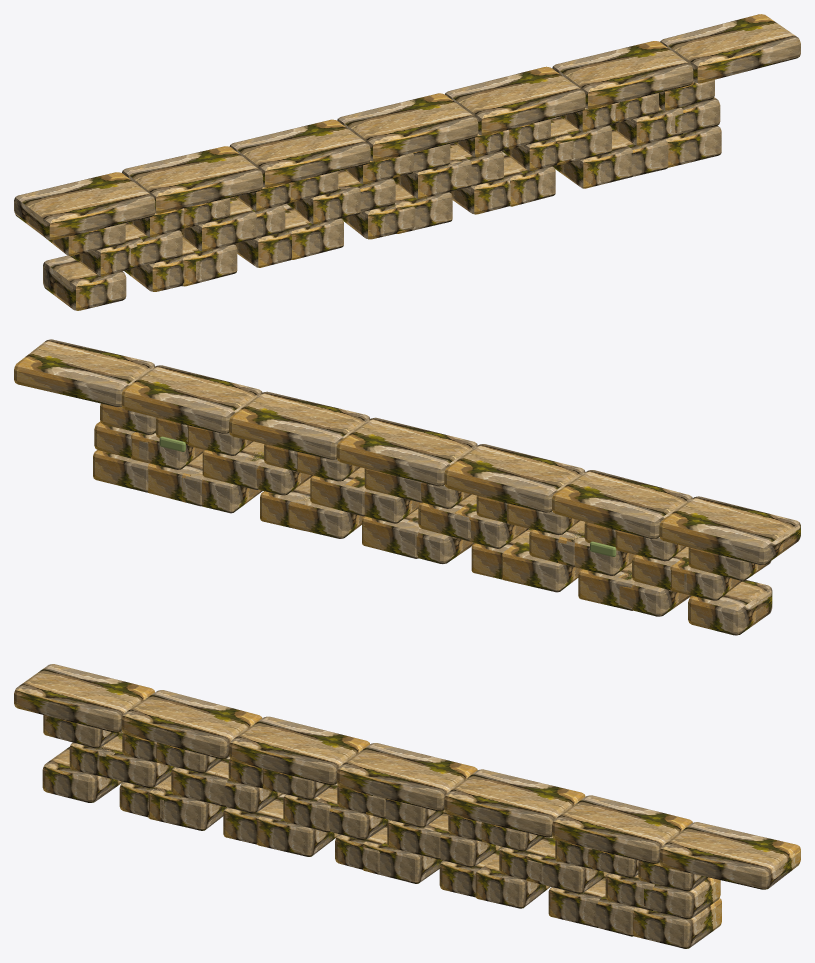
File: drystone_straight.glb
The picture shows the model from 3 angles, top to bottom: view 1: azimuth 30°, elevation 25°; view 2: azimuth 150°, elevation 25°; view 3: azimuth 330°, elevation 25°; orthographic projection.
Visible parts, largest first — view 1: Painted Cotswold drystone; view 2: Painted Cotswold drystone, Warm wall moss; view 3: Painted Cotswold drystone.
Boxes of the visible parts, x1,y1,x2,y2 form: Painted Cotswold drystone: (14, 14, 800, 310); Painted Cotswold drystone: (14, 339, 800, 635); Warm wall moss: (159, 436, 616, 556); Painted Cotswold drystone: (14, 664, 800, 948).
Bounding box in the file's own units: 9.35 × 1.18 × 0.8748.
Materials: 2 (1 with a texture image).
